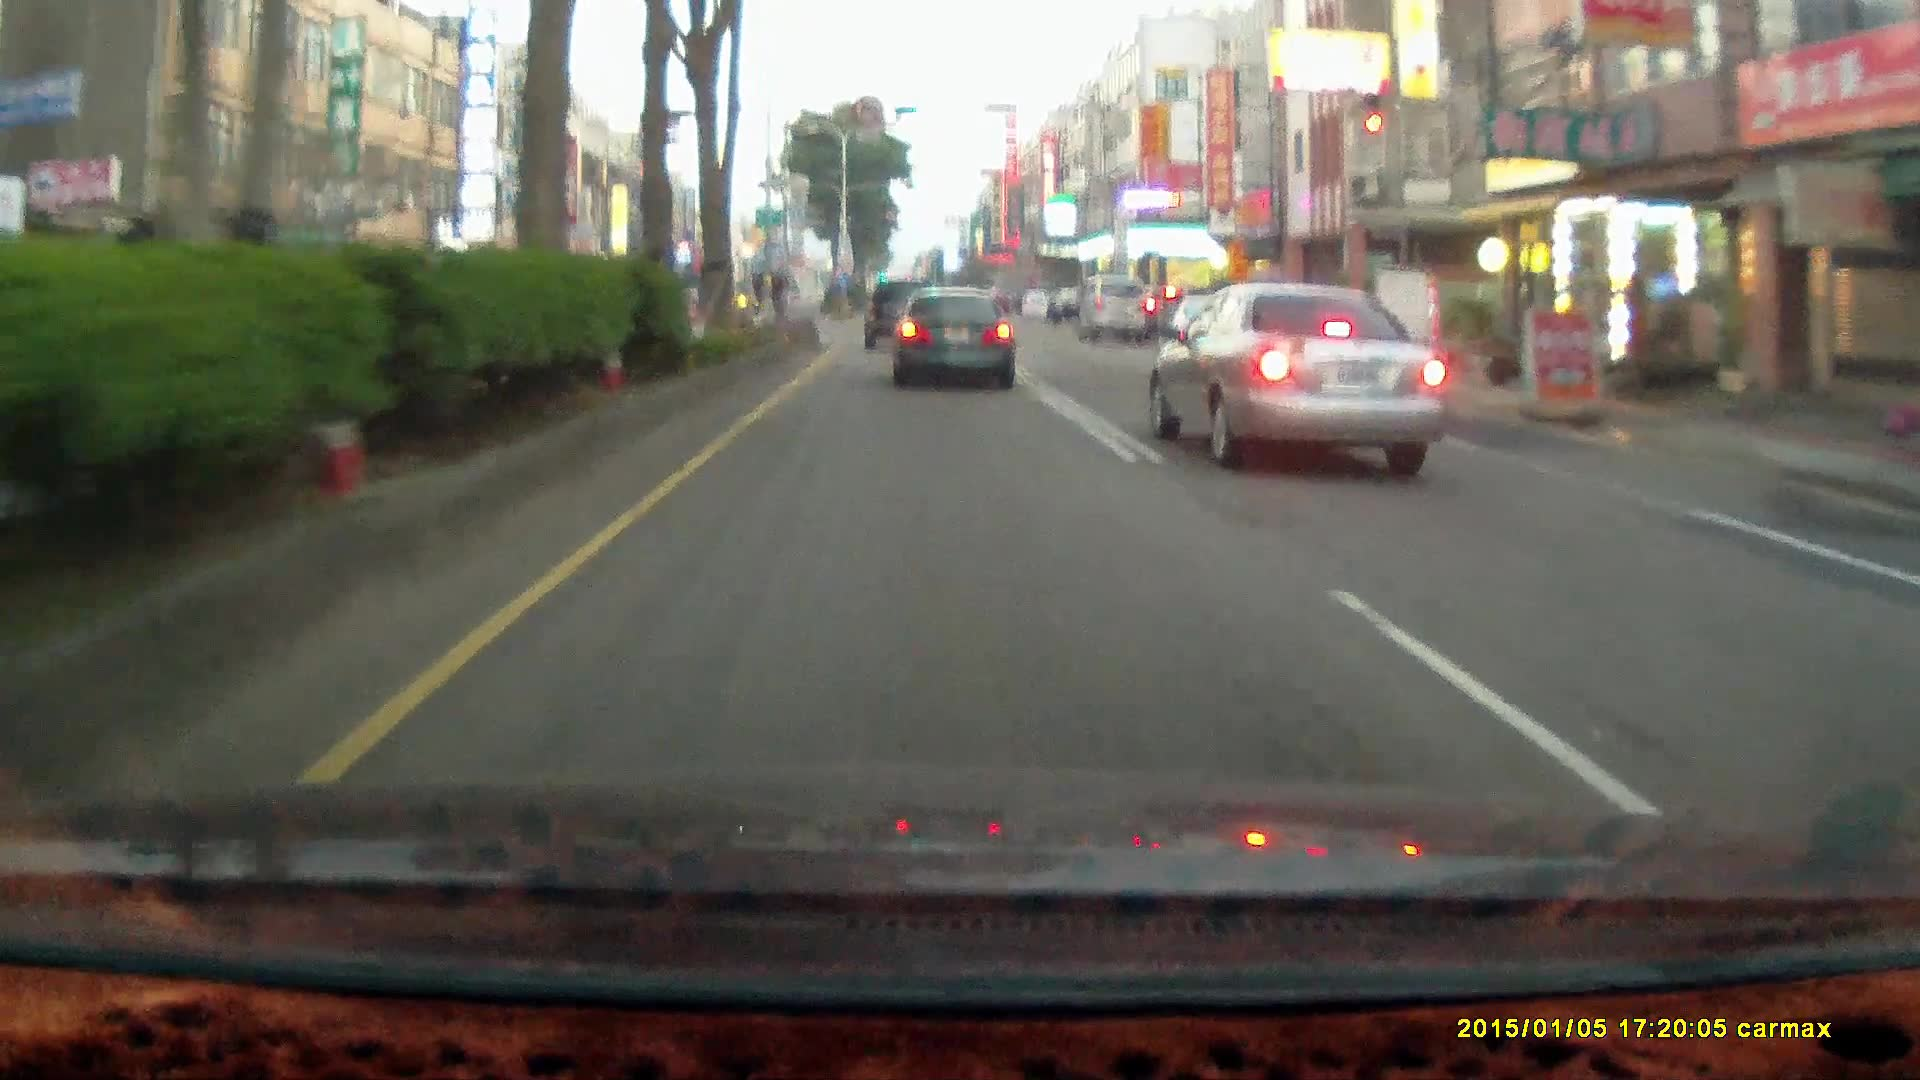vehicle: (1149, 286, 1449, 467), (891, 287, 1021, 396), (891, 286, 1011, 390), (862, 278, 943, 355), (862, 282, 939, 355), (1077, 280, 1153, 345), (1076, 272, 1150, 338), (1048, 285, 1101, 323), (1021, 289, 1050, 316)
